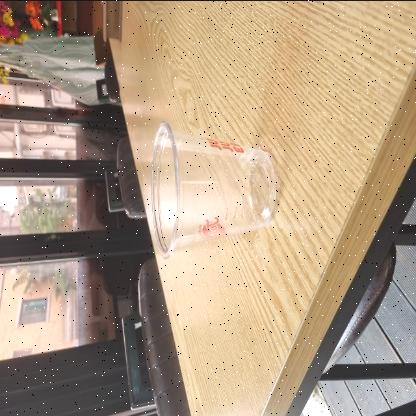Others: (147, 114, 280, 262)
